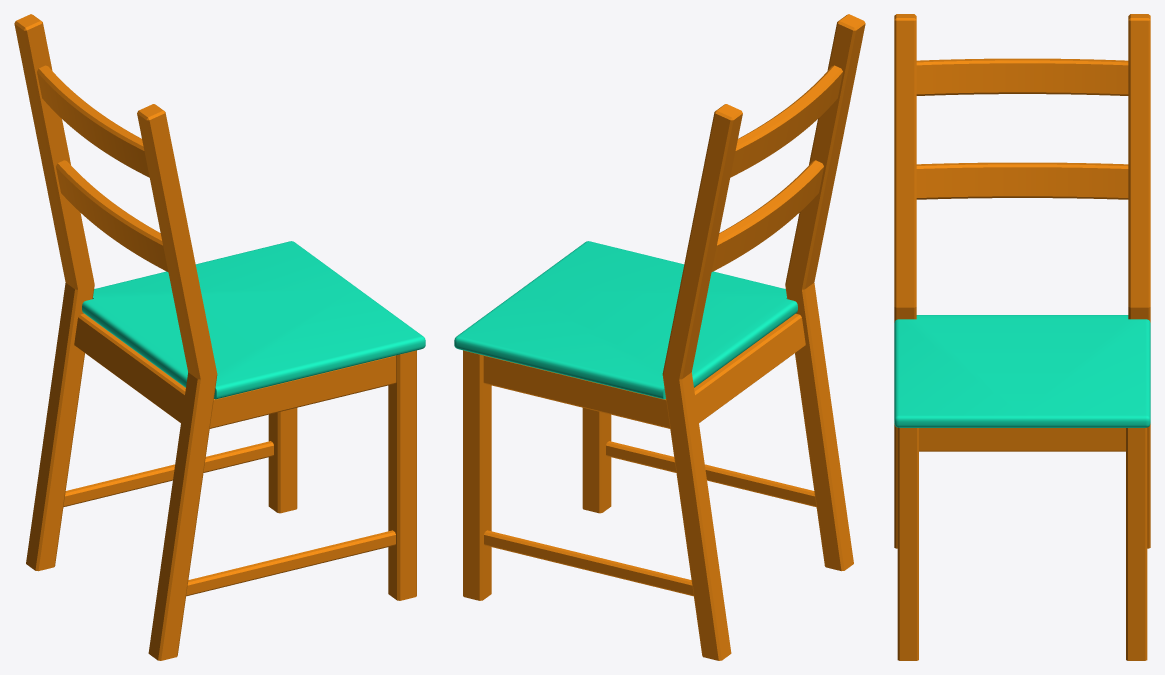
The model's file is 单把椅子.fbx.
3 views of the same model, side by side, from view 1: azimuth 30°, elevation 25°; view 2: azimuth 150°, elevation 25°; view 3: azimuth 270°, elevation 25° (orthographic). The views are drawn at different scales.
Visible parts, largest first — view 1: Legs, Cover; view 2: Legs, Cover; view 3: Legs, Cover.
Boxes of the visible parts, box(x1,y1,x2,y2) form: Legs: box(14, 14, 416, 660); Cover: box(82, 241, 425, 399); Legs: box(463, 14, 865, 660); Cover: box(454, 241, 797, 399); Legs: box(894, 14, 1150, 660); Cover: box(894, 315, 1150, 427).
Bounding box in the file's own units: 3.63 × 6.81 × 3.02.
